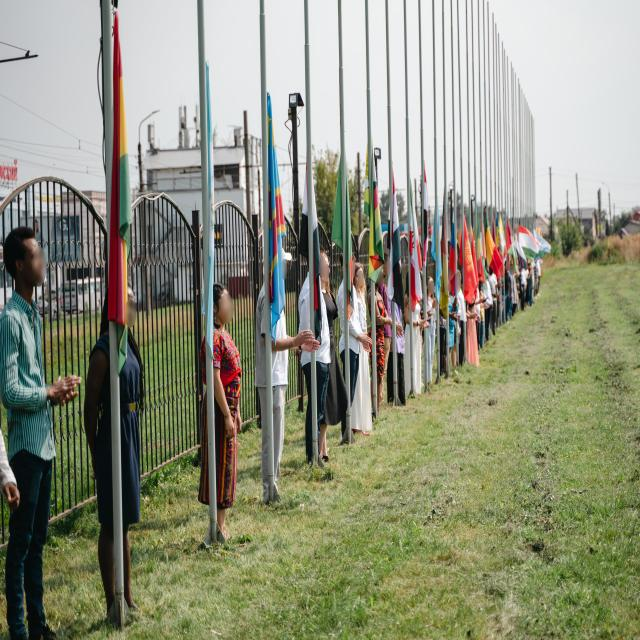Person: (0, 220, 63, 640), (94, 281, 155, 622), (194, 282, 248, 554), (259, 245, 297, 512), (301, 244, 328, 477), (348, 256, 371, 441), (354, 262, 376, 439), (317, 253, 335, 463), (372, 268, 387, 427), (423, 273, 437, 392), (456, 262, 468, 370), (503, 258, 511, 324), (512, 260, 518, 319)
